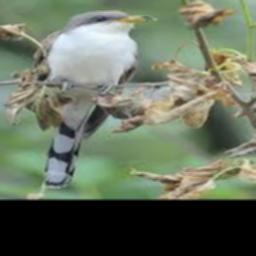Cuckoo: (35, 9, 158, 189)
